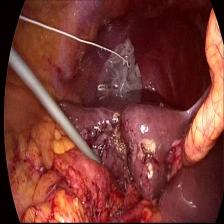Irrigator: (82, 139, 106, 172)
Specimen Bag: (92, 32, 148, 108)
